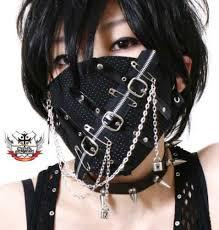OK: (43, 17, 170, 151)
